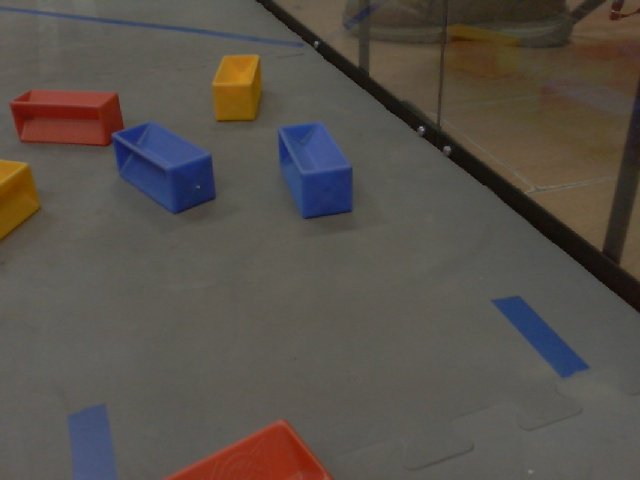BlueSample: (109, 121, 218, 220), (272, 116, 358, 220)
RedSample: (9, 87, 124, 147)
YellowSample: (206, 52, 269, 125), (1, 159, 43, 249)
